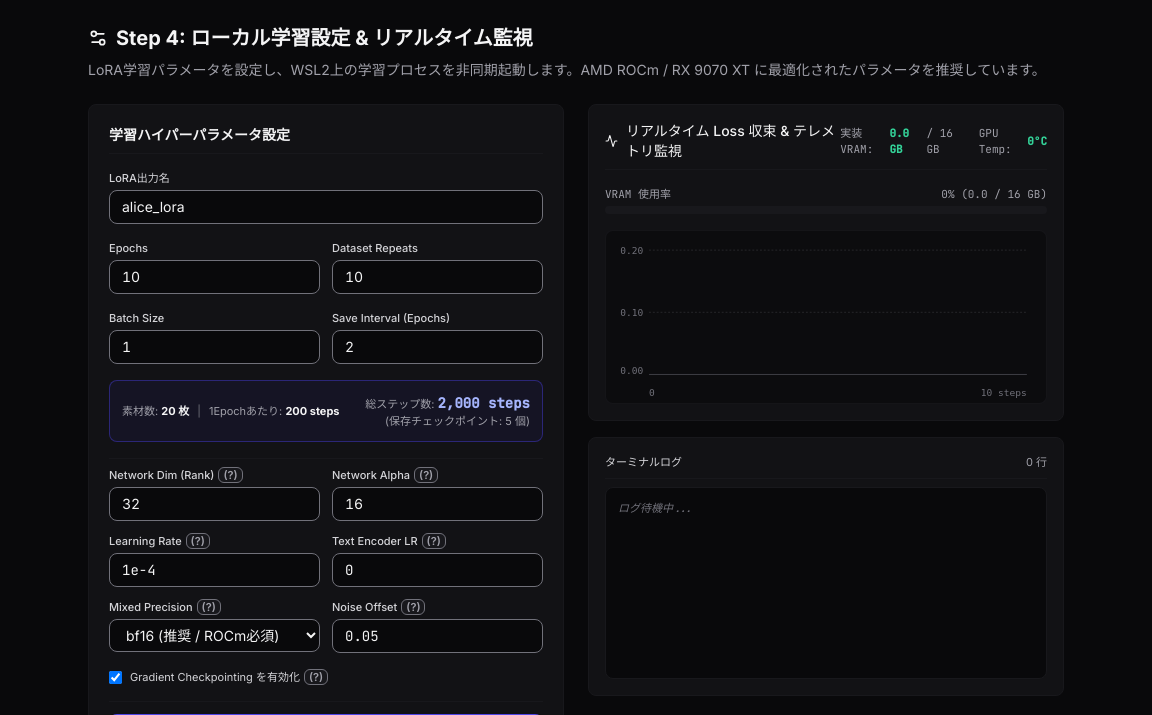
Test: TrainingConfigPanel Component › renders schedule calculation dynamically reflecting input changes
Expected: the element with test id "training-schedule-summary" shows "2,000 steps", [109,380,543,442]
// Change epochs to 5
Step 1. Replace the text in the number field labelled "Epochs" with "5" → {"x": 214, "y": 277}, box [109,260,320,294]
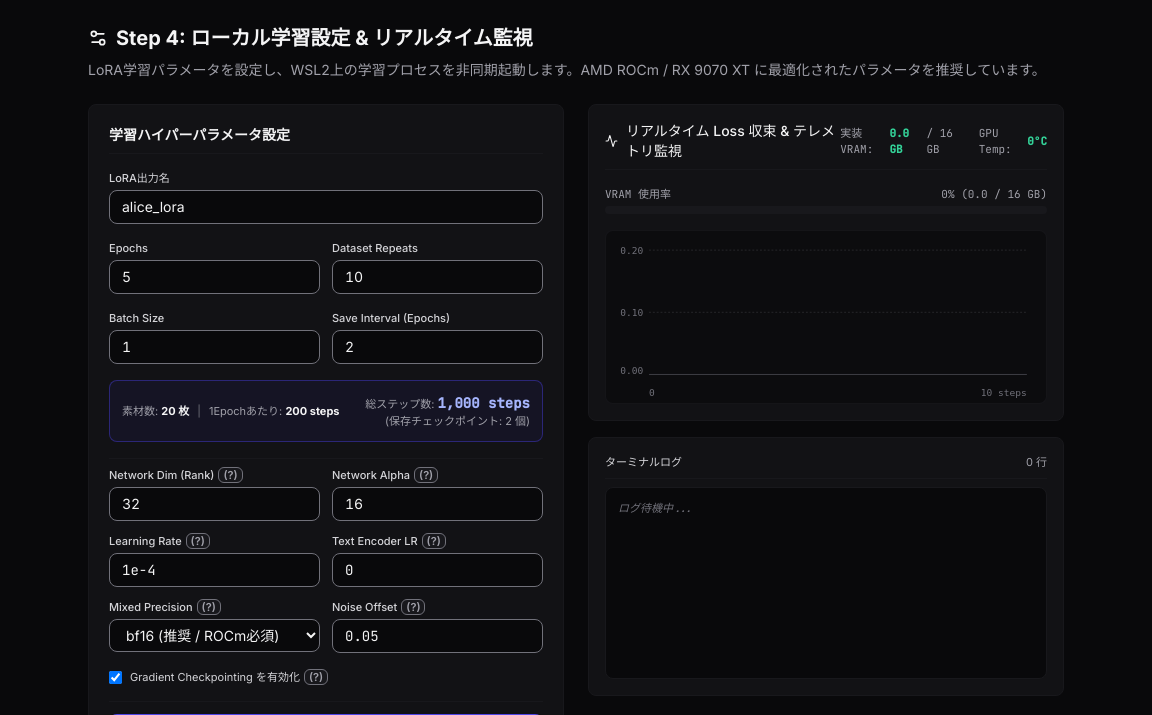
Expected: the element with test id "training-schedule-summary" shows "1,000 steps", [109,380,543,442]
